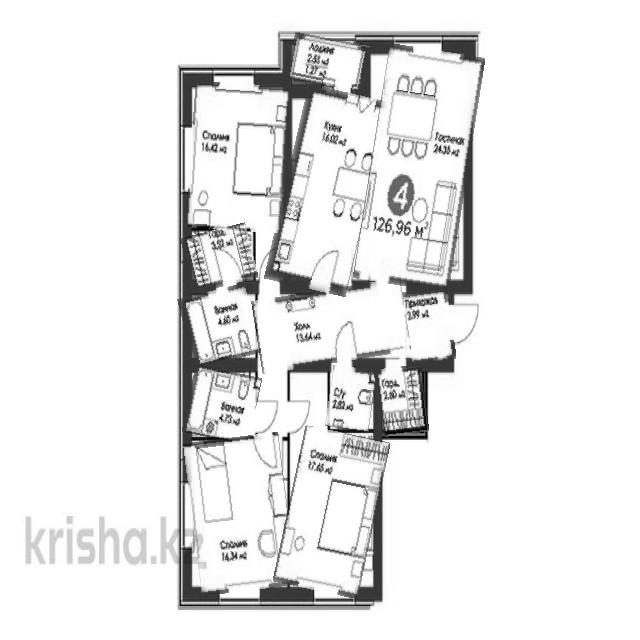balcony: (287, 36, 368, 94)
bathroom: (181, 287, 258, 365), (185, 367, 259, 442), (328, 366, 376, 432)
hallway: (254, 284, 409, 368), (405, 288, 454, 363)
kitchen: (274, 88, 380, 294)
living_room: (361, 46, 476, 290), (280, 428, 383, 596), (188, 435, 292, 593), (187, 82, 288, 232)
other: (183, 226, 256, 290), (377, 366, 428, 436)
